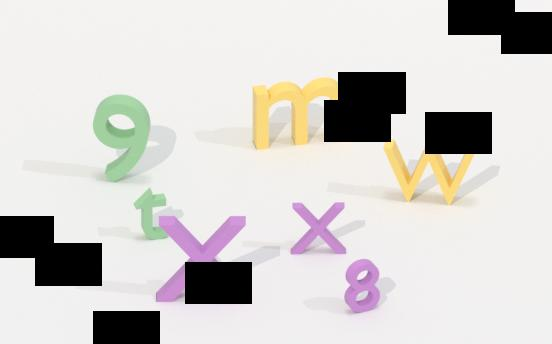8: (340, 255, 384, 315)
9: (91, 91, 154, 183)
m: (249, 76, 349, 154)
t: (135, 186, 171, 242)
w: (379, 133, 480, 212)
x: (157, 212, 249, 308), (289, 193, 349, 256)
